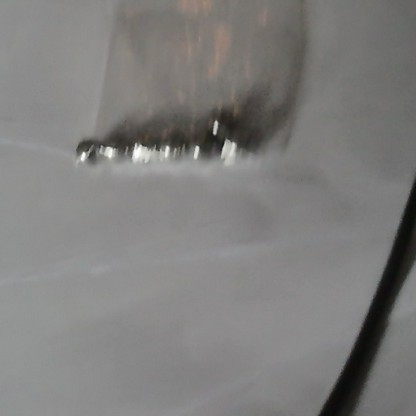ironball: (221, 127, 259, 161), (184, 128, 214, 162), (201, 106, 233, 137), (125, 132, 155, 164), (75, 137, 103, 167), (156, 132, 183, 161), (96, 133, 123, 160)
